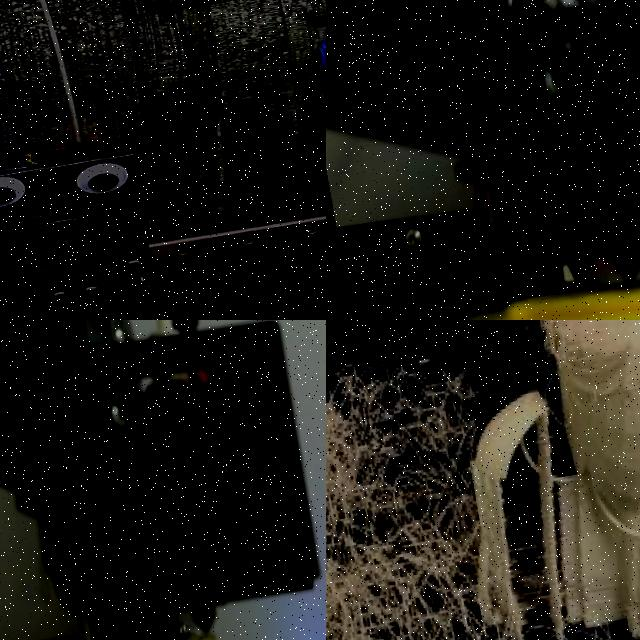spaghetti: (422, 320, 640, 640), (326, 320, 509, 640)
